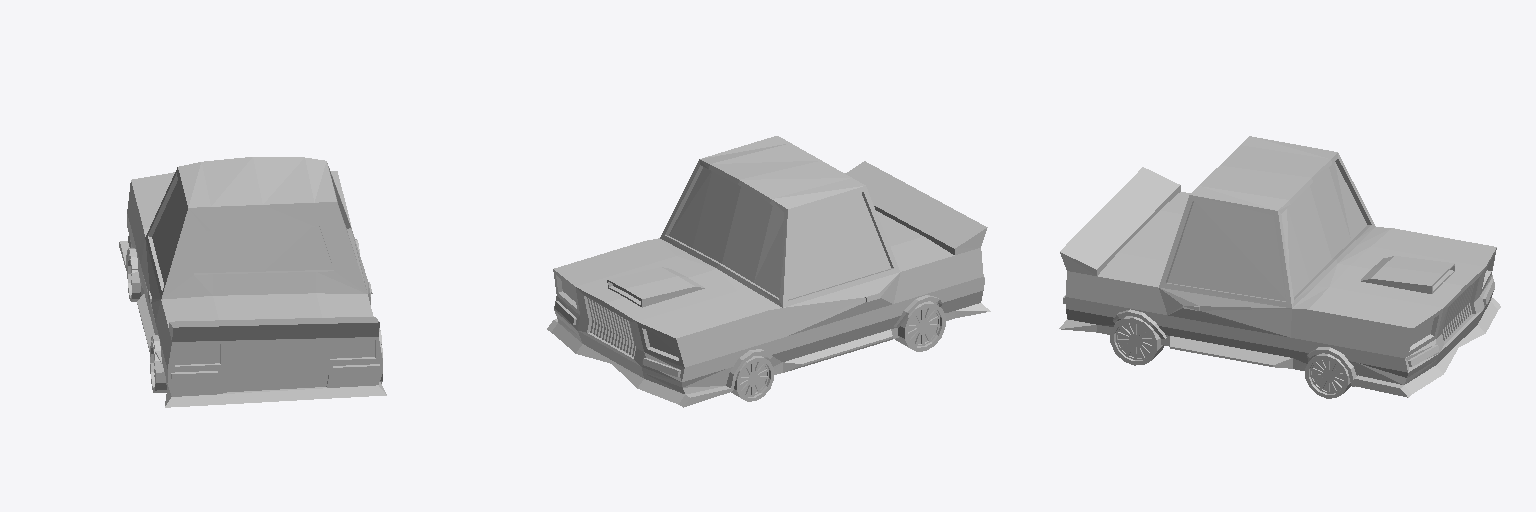
The model's file is Car.obj.
3 views of the same model, side by side, from view 1: azimuth 30°, elevation 25°; view 2: azimuth 150°, elevation 25°; view 3: azimuth 270°, elevation 25° (orthographic).
Visible parts, largest first — view 1: body_ID56, backlight_ID75, wheel.1_ID84; view 2: body_ID56, wheel.1_ID84, lattice.1_ID29, wheel1.1_ID93, headlight_ID66; view 3: body_ID56, wheel.1_ID84, wheel1.1_ID93, lattice.1_ID29.
Part boxes in pixels (x1,y1,x2,y2): body_ID56: (119, 157, 386, 407); backlight_ID75: (175, 340, 374, 364); wheel.1_ID84: (150, 341, 382, 392); body_ID56: (547, 136, 990, 407); wheel.1_ID84: (895, 301, 945, 351); lattice.1_ID29: (587, 298, 635, 356); wheel1.1_ID93: (731, 356, 773, 401); headlight_ID66: (561, 279, 677, 356); body_ID56: (1059, 136, 1500, 397); wheel.1_ID84: (1110, 316, 1163, 365); wheel1.1_ID93: (1305, 353, 1351, 398); lattice.1_ID29: (1442, 282, 1474, 341).
Bounding box in the file's own units: 2.16 × 1.11 × 2.64.